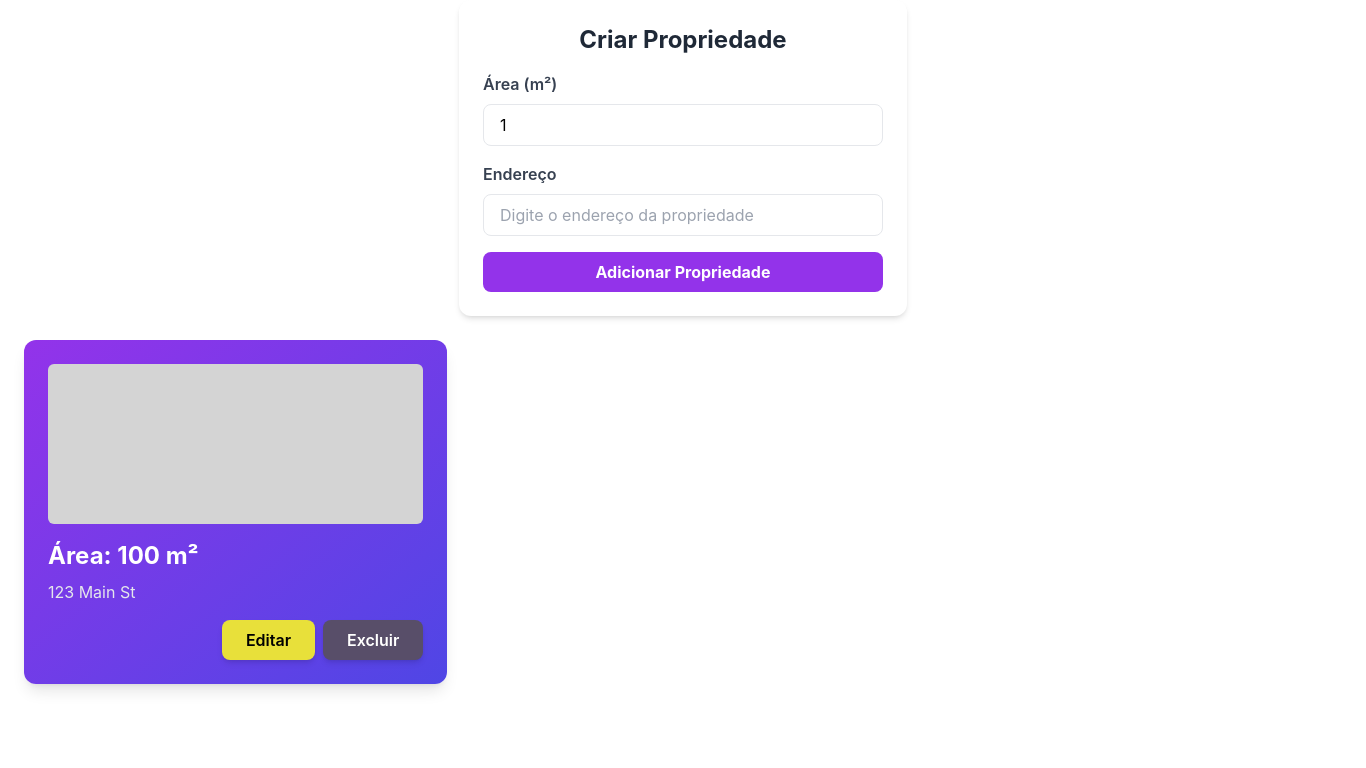
PropertyContainer › updates an existing property
Expected: the text "123 Main St" is shown, [48,582,135,602]
# Editar a propriedade
Click the button "Editar".
click(268, 640)  # box [222,620,315,660]
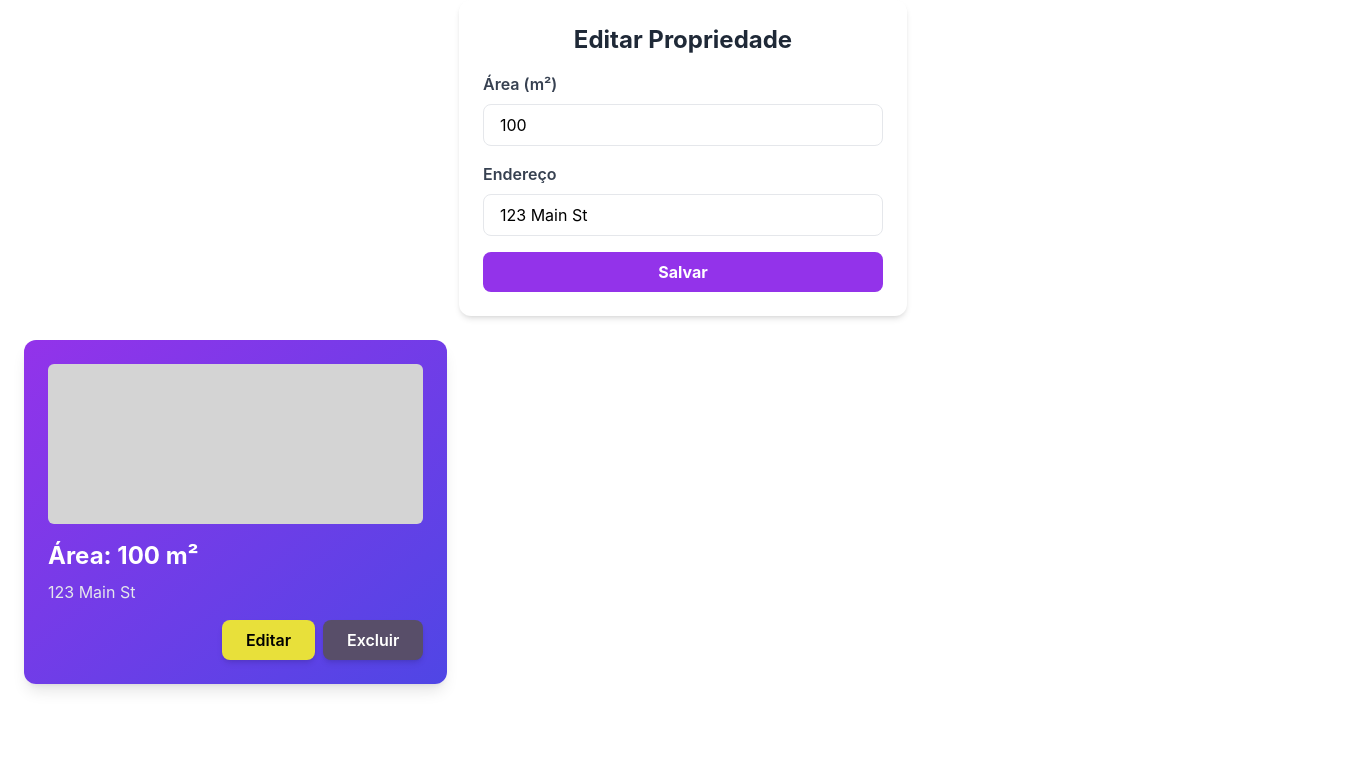
# Atualizar os detalhes
Replace the text in the number field labelled "Área (m²)" with "120" at (683, 125), box [483,104,883,146]
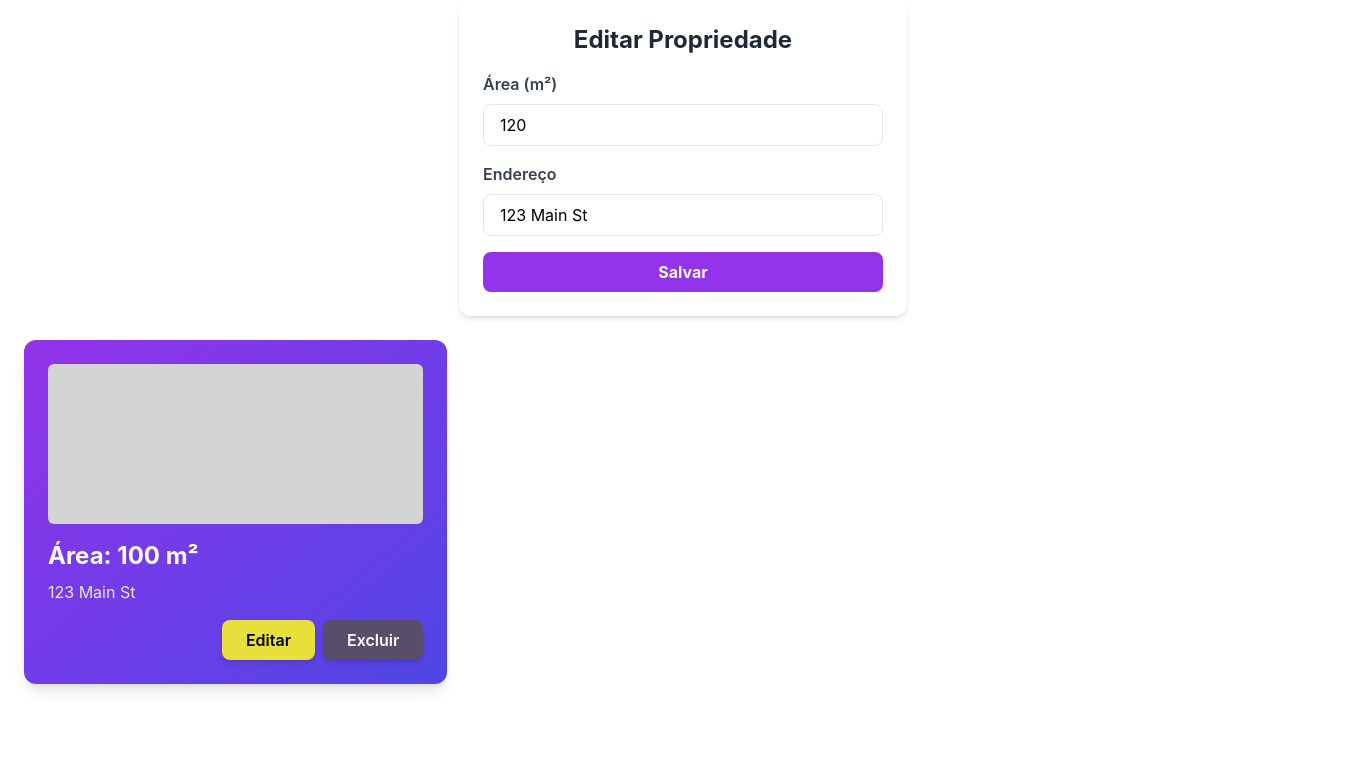
Replace the text in the field labelled "Endereço" with "123 Main St Updated" at (683, 215), box [483,194,883,236]
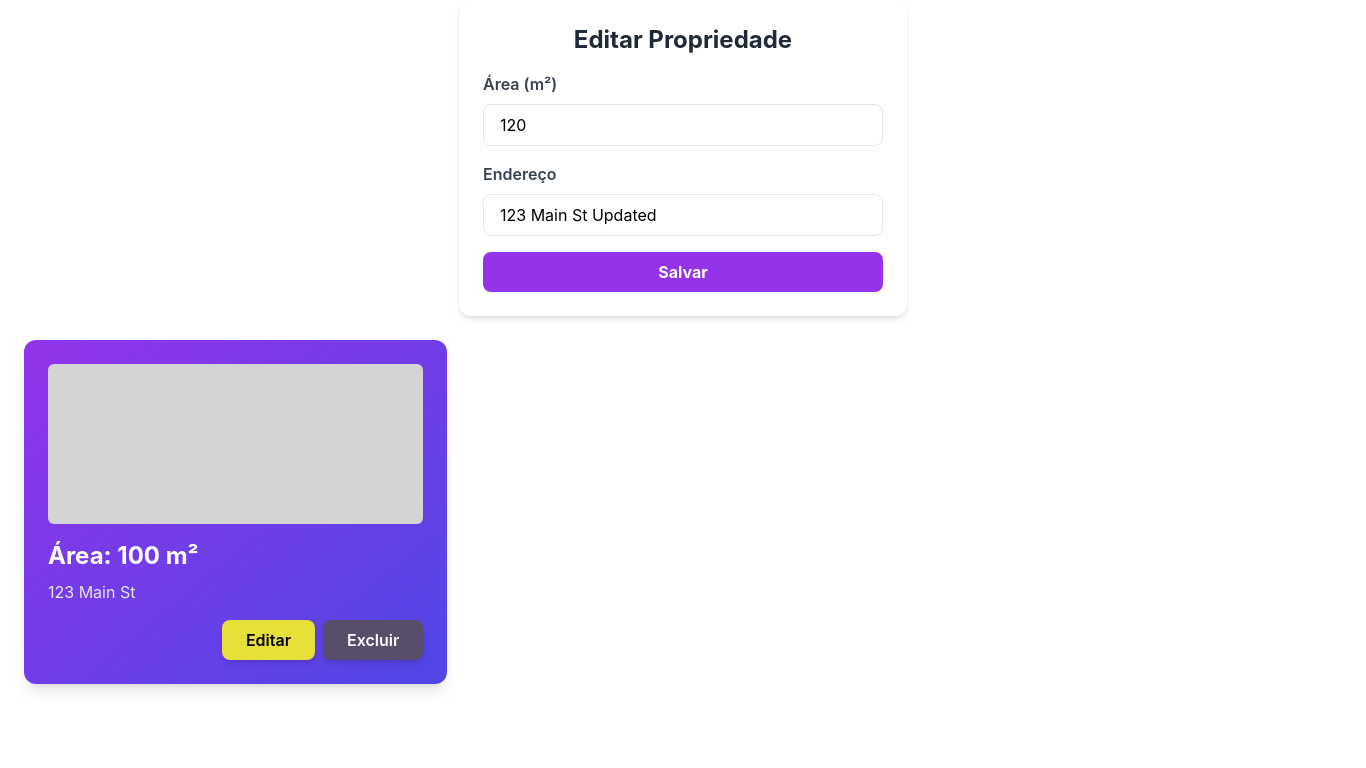
Click the button "Salvar".
click(683, 272)  # box [483,252,883,292]
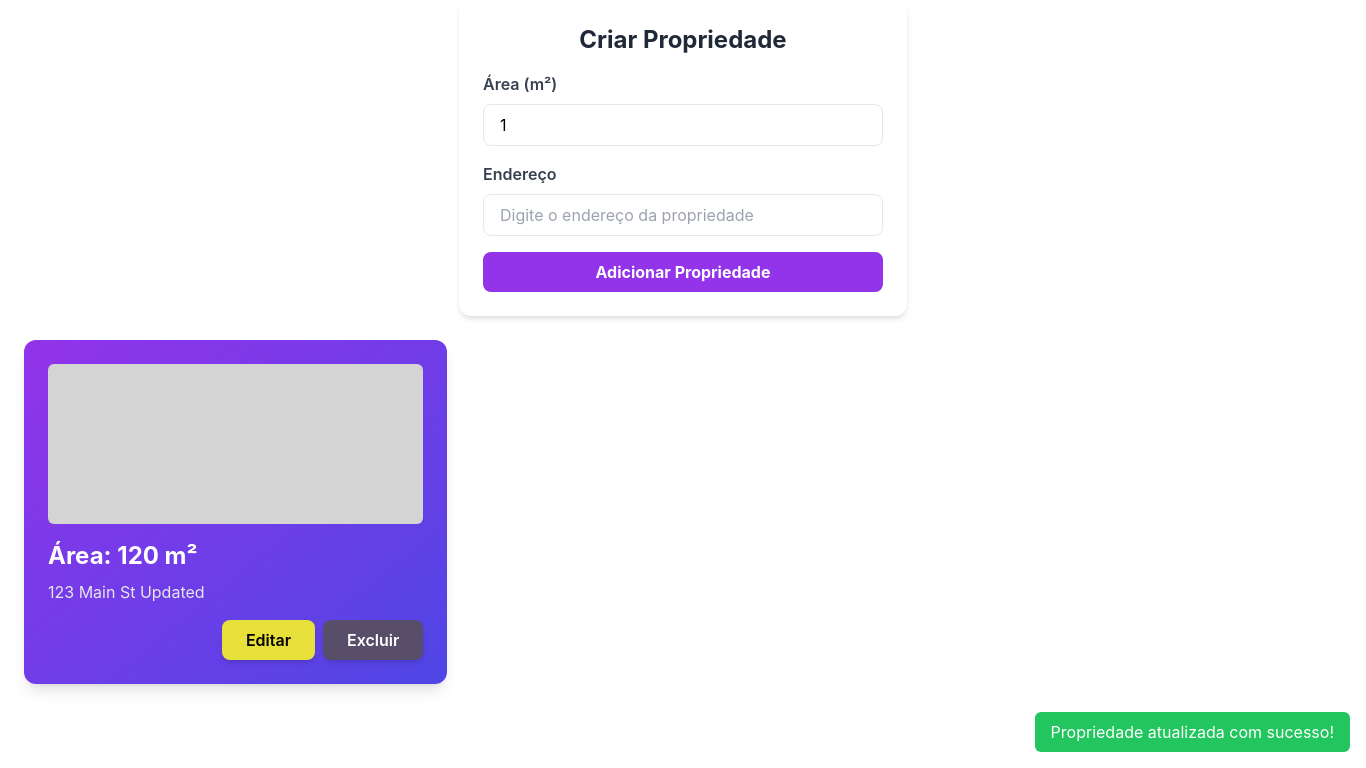
Expected: the text "123 Main St Updated" is shown, [48,582,205,602]
